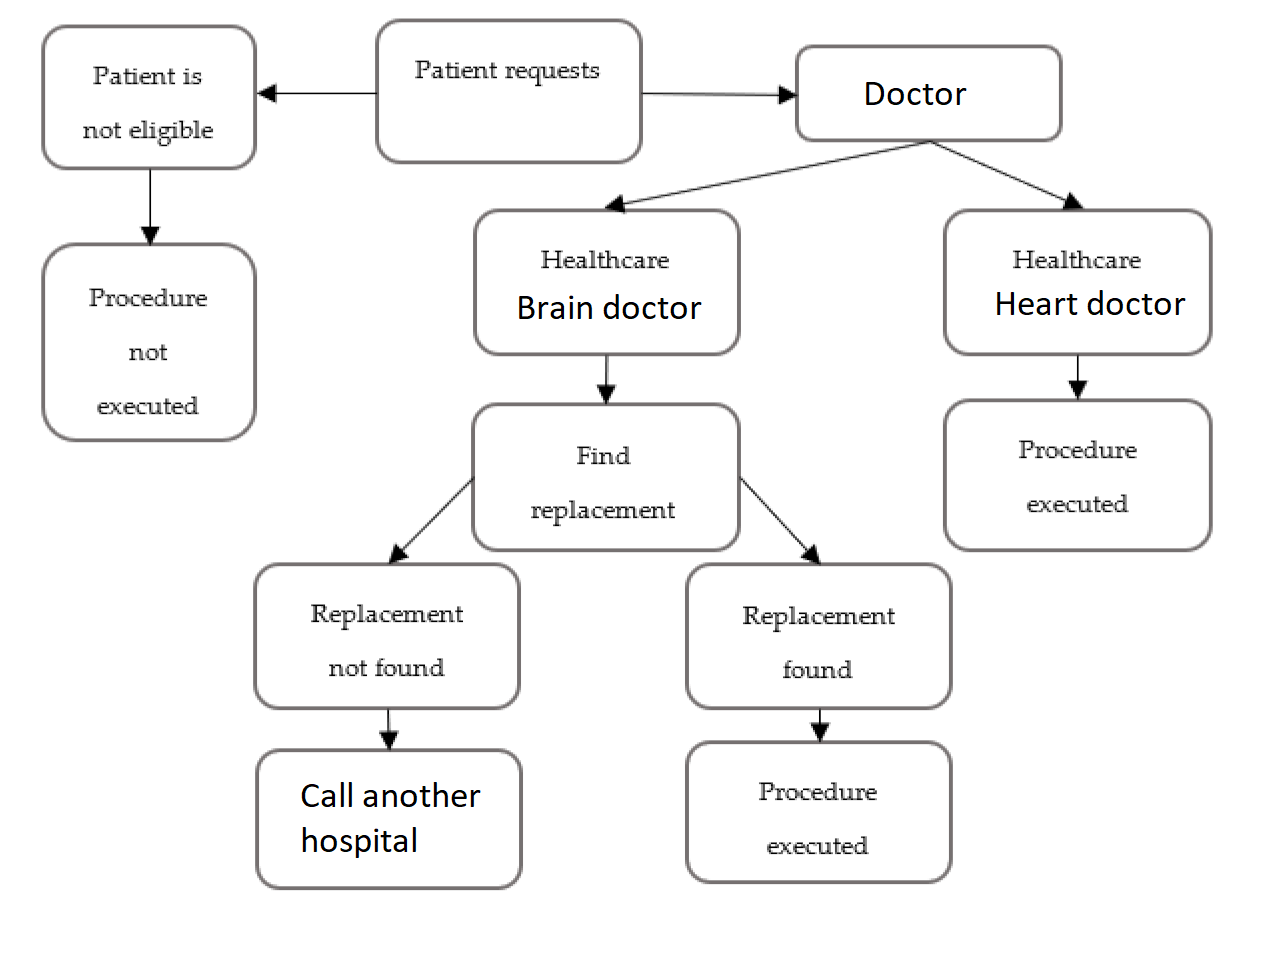arrow: (602, 137, 932, 216), (926, 136, 1087, 217), (387, 474, 479, 567), (738, 471, 827, 568), (636, 82, 796, 104), (256, 80, 380, 100), (135, 161, 162, 247), (591, 347, 620, 405), (376, 705, 403, 751), (1067, 350, 1089, 397), (806, 702, 831, 741)
process: (34, 237, 261, 446), (933, 392, 1217, 556), (463, 398, 745, 556), (678, 556, 956, 714), (466, 202, 742, 361), (249, 558, 524, 714), (370, 13, 645, 167), (938, 205, 1215, 357), (252, 743, 530, 893), (681, 736, 959, 887), (34, 19, 264, 173), (789, 40, 1072, 149)
text: (83, 283, 212, 420), (294, 777, 482, 863), (514, 244, 707, 323), (990, 244, 1188, 317), (525, 438, 683, 528), (309, 598, 470, 679), (72, 63, 219, 147), (739, 603, 898, 681), (1013, 434, 1137, 517), (755, 775, 876, 860), (413, 54, 599, 93), (860, 75, 969, 111)
